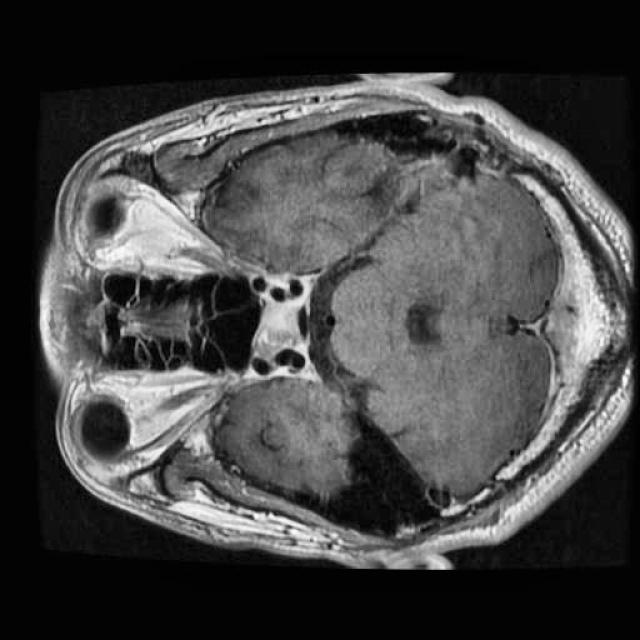Tumor: (241, 289, 318, 372)
